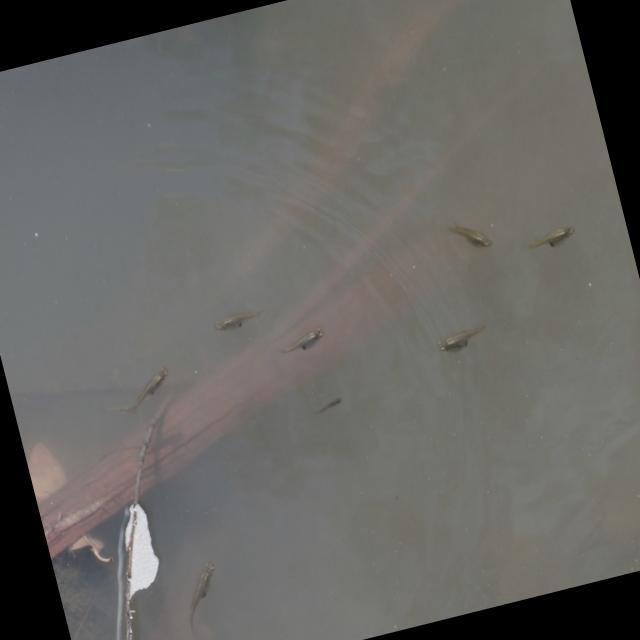Sivrisinek Baligi: (98, 356, 186, 437), (160, 549, 236, 640), (424, 308, 492, 364), (513, 209, 584, 262), (202, 288, 264, 346), (278, 314, 331, 366), (446, 216, 492, 262), (312, 384, 346, 418)
